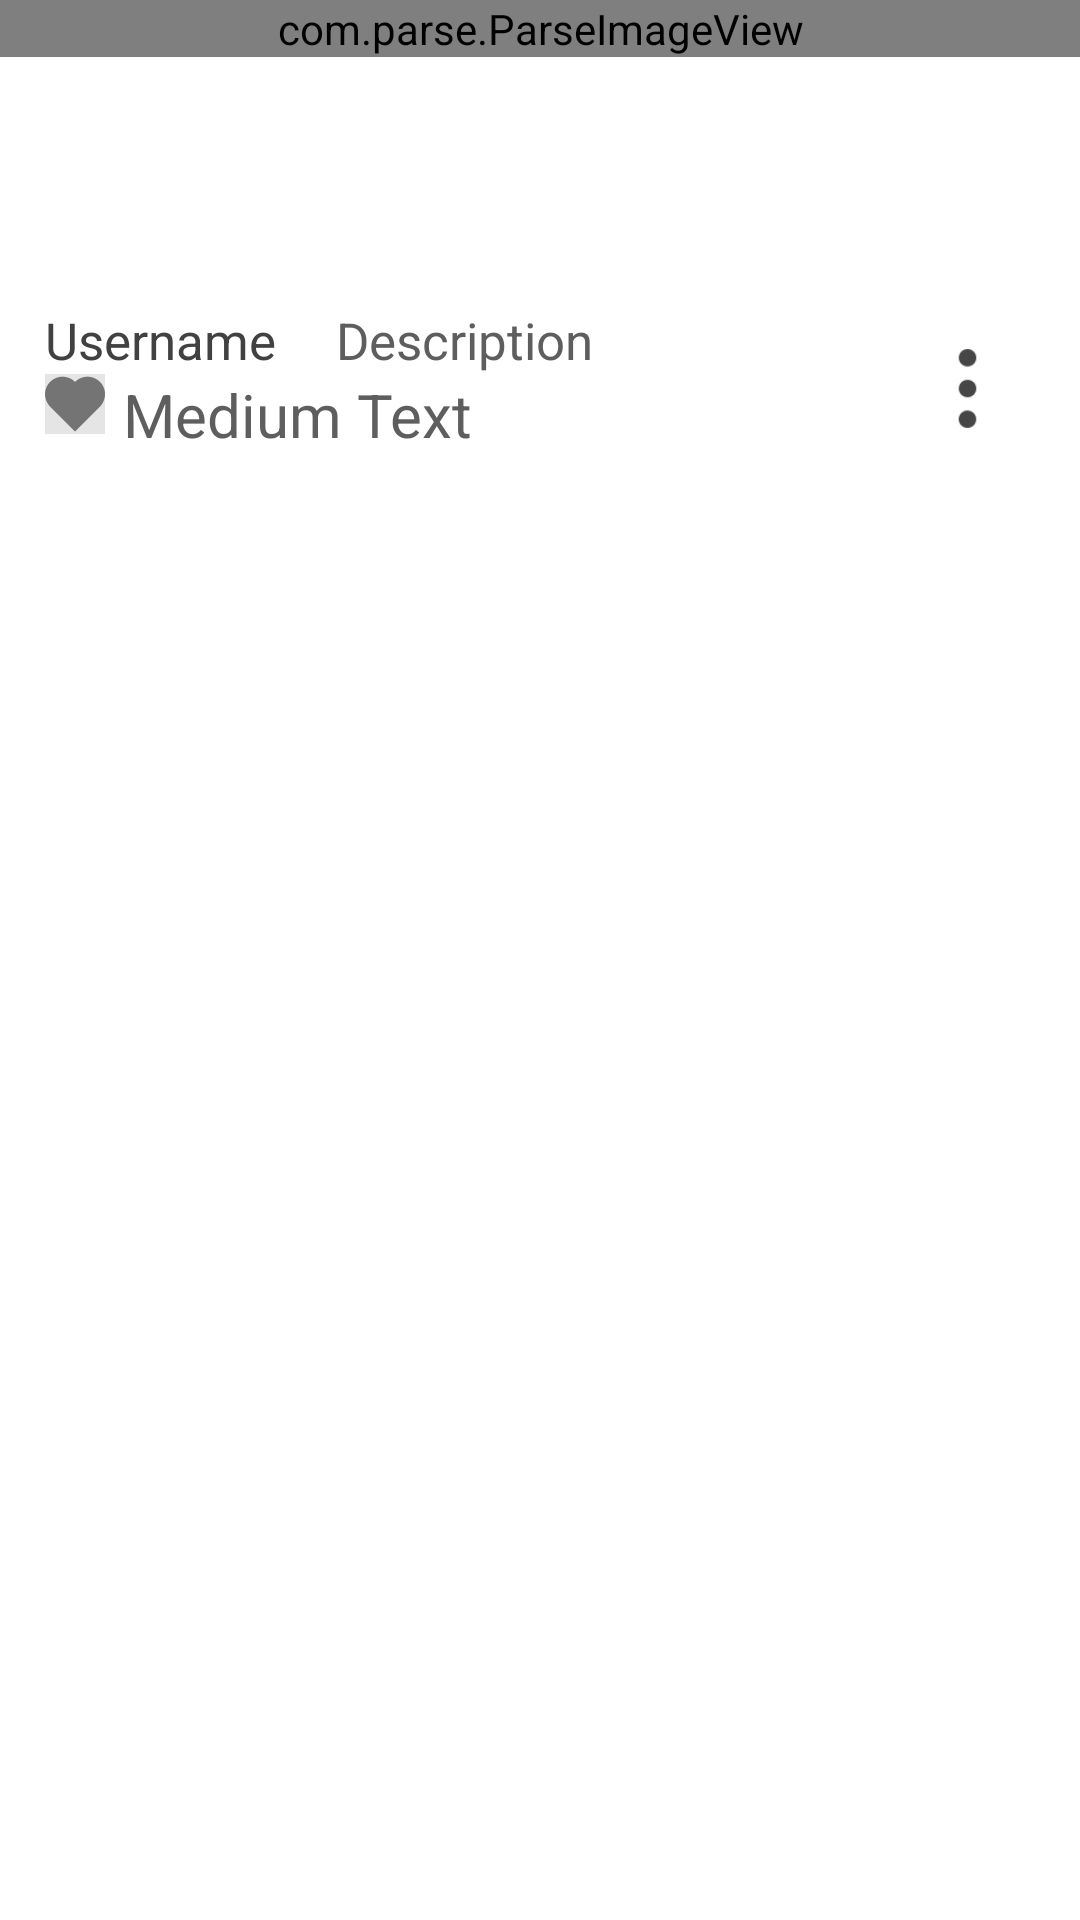

Where icons sit on this 1080px×1920px app screen, as (x1, y1, x2, y2):
heart deselected: (45, 374, 105, 434)
menu: (958, 349, 977, 428)
